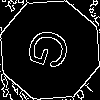G: (25, 25, 81, 77)
